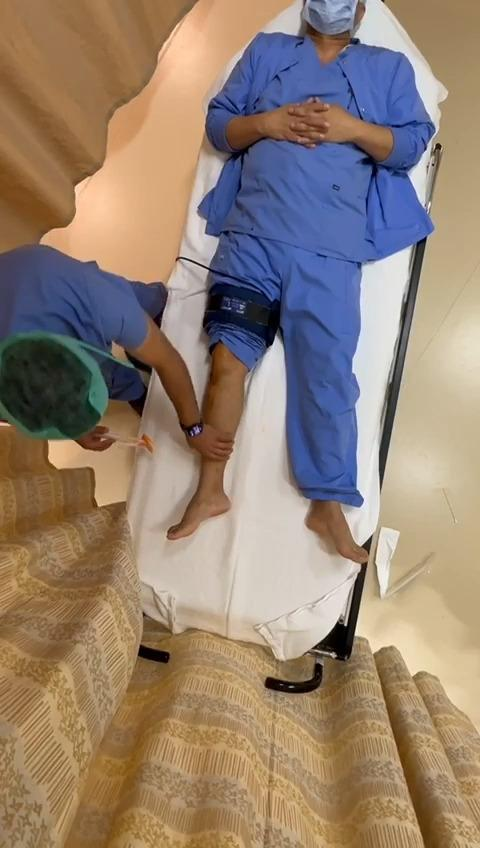patient: (167, 0, 434, 563)
prepstick: (103, 432, 156, 453)
tourniquet: (204, 283, 280, 345)
